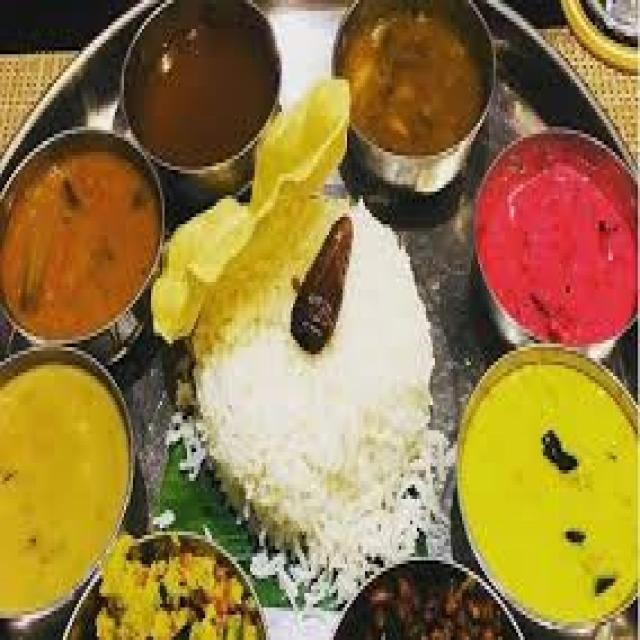dal: (457, 348, 635, 620), (1, 132, 161, 346), (3, 372, 130, 583)
pickle: (283, 219, 369, 355)
rice: (189, 323, 329, 513)
sambar-rasam: (114, 0, 288, 171), (340, 3, 495, 162)
sweet: (290, 219, 363, 352)
veg-fry: (337, 0, 495, 171), (83, 513, 251, 640)
